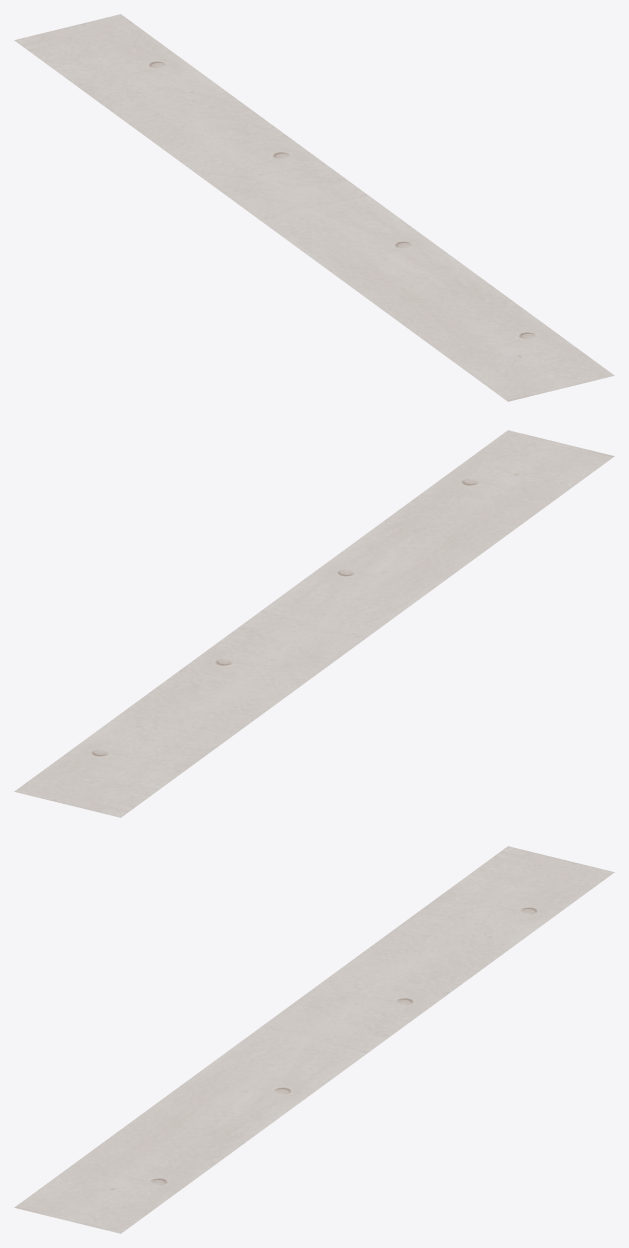
The model's file is VPS_Floor_10.fbx.
3 views of the same model, one above another, from view 1: azimuth 30°, elevation 25°; view 2: azimuth 150°, elevation 25°; view 3: azimuth 330°, elevation 25° (orthographic).
Parts seen in each view (by area): view 1: GYM_Wood_Floor_10; view 2: GYM_Wood_Floor_10; view 3: GYM_Wood_Floor_10.
Boxes of the visible parts, bbox=[...] form: GYM_Wood_Floor_10: bbox=[14, 14, 614, 401]; GYM_Wood_Floor_10: bbox=[14, 430, 614, 817]; GYM_Wood_Floor_10: bbox=[14, 846, 614, 1233].
Bounding box in the file's own units: 0.5 × 8.88e-16 × 4.
1 material, 1 textured.
